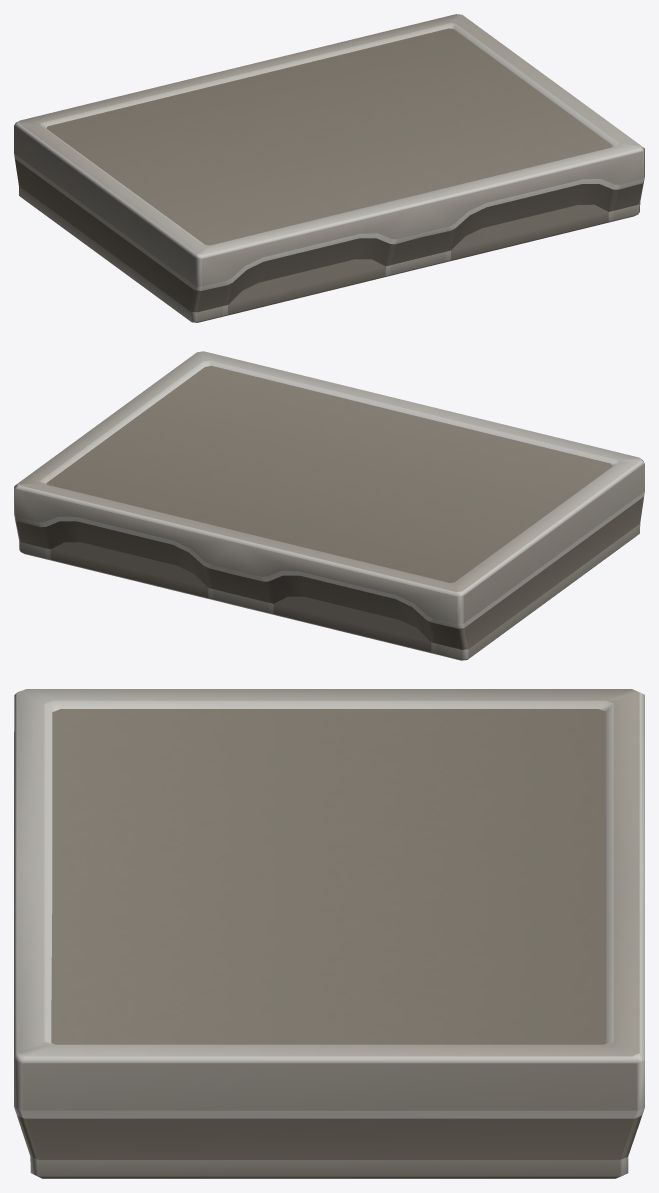
File: appartment_type1_roof_type1_x6_flat.fbx
The picture shows the model from 3 angles, top to bottom: view 1: azimuth 30°, elevation 25°; view 2: azimuth 150°, elevation 25°; view 3: azimuth 270°, elevation 25°; orthographic projection. The views are drawn at different scales.
Parts seen in each view (by area): view 1: appartment_type1_roof_type1_x6_flat; view 2: appartment_type1_roof_type1_x6_flat; view 3: appartment_type1_roof_type1_x6_flat.
Boxes of the visible parts, left/top/right/bottom form: appartment_type1_roof_type1_x6_flat: left=14, top=14, right=644, bottom=322; appartment_type1_roof_type1_x6_flat: left=14, top=351, right=644, bottom=660; appartment_type1_roof_type1_x6_flat: left=14, top=689, right=644, bottom=1178.
Bounding box in the file's own units: 1210 × 186 × 867.
